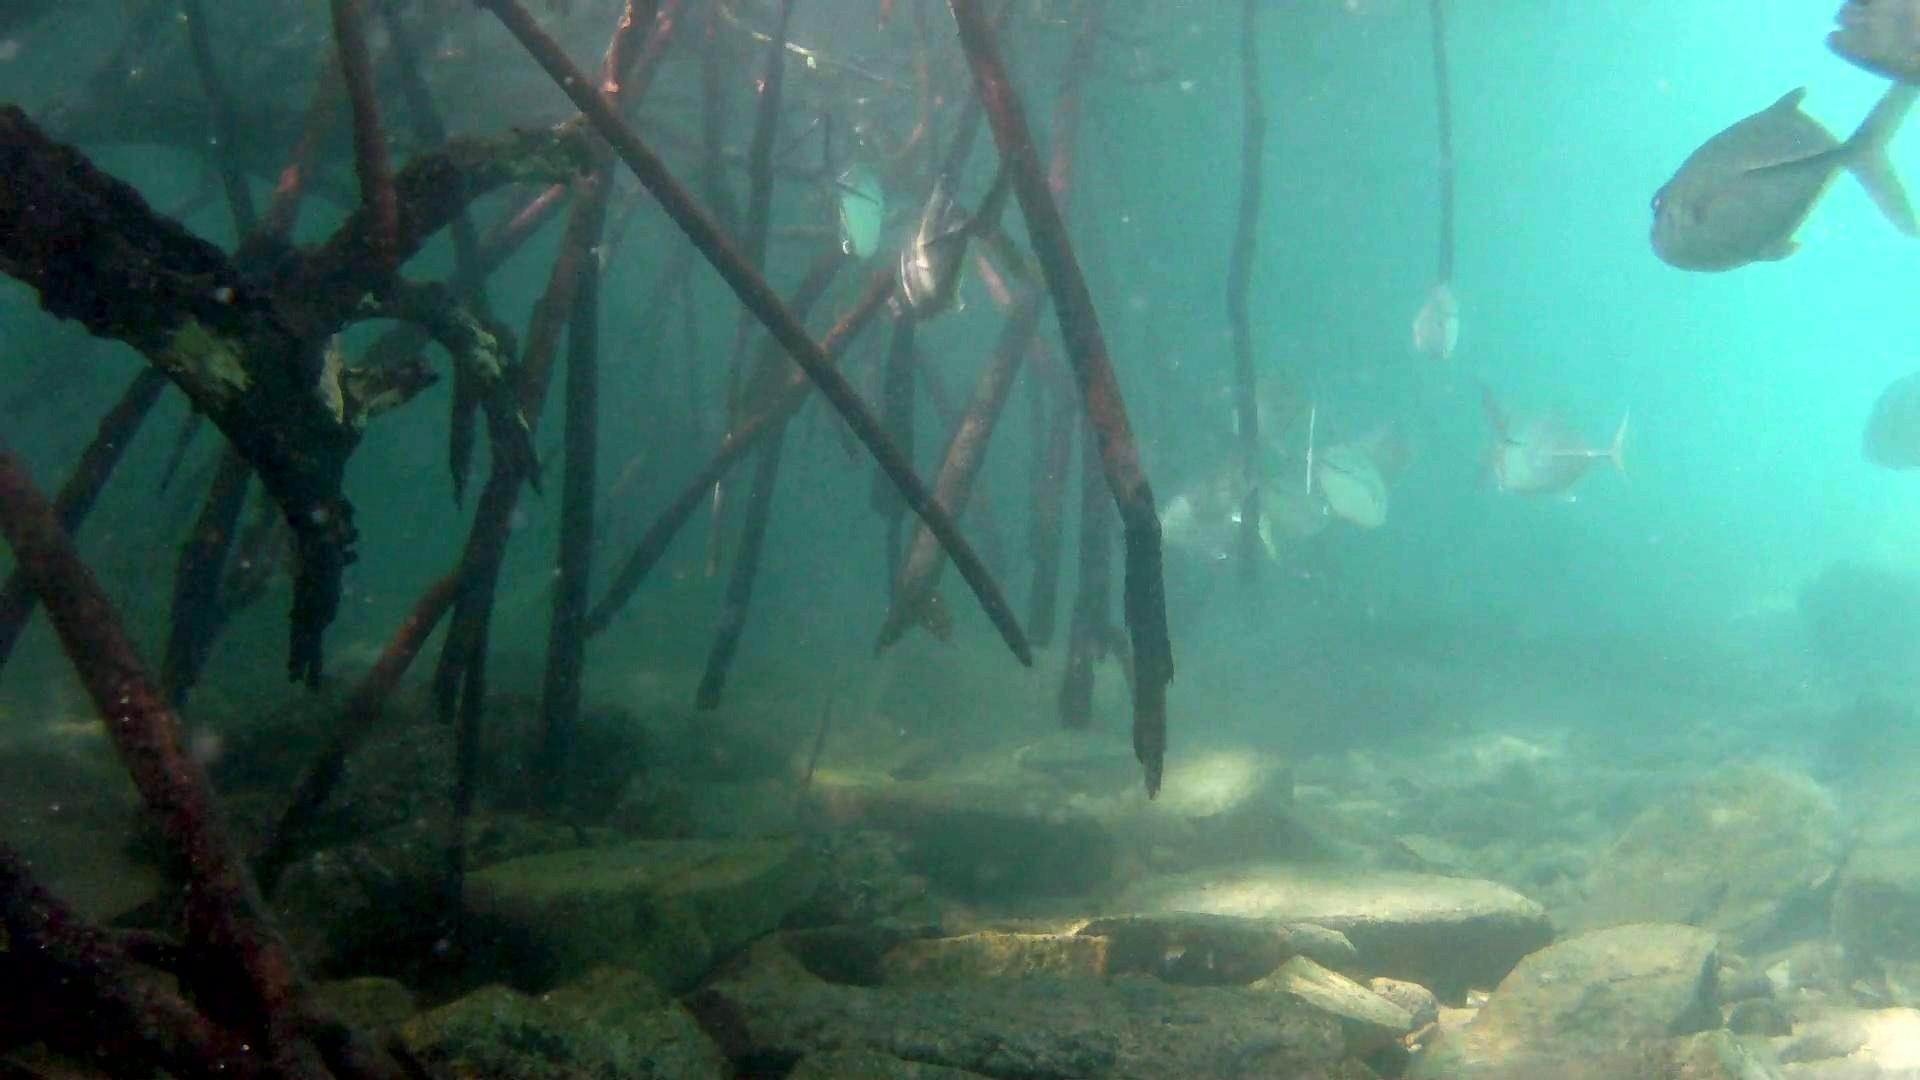caranx: (1634, 76, 1920, 280), (897, 142, 1043, 332)
